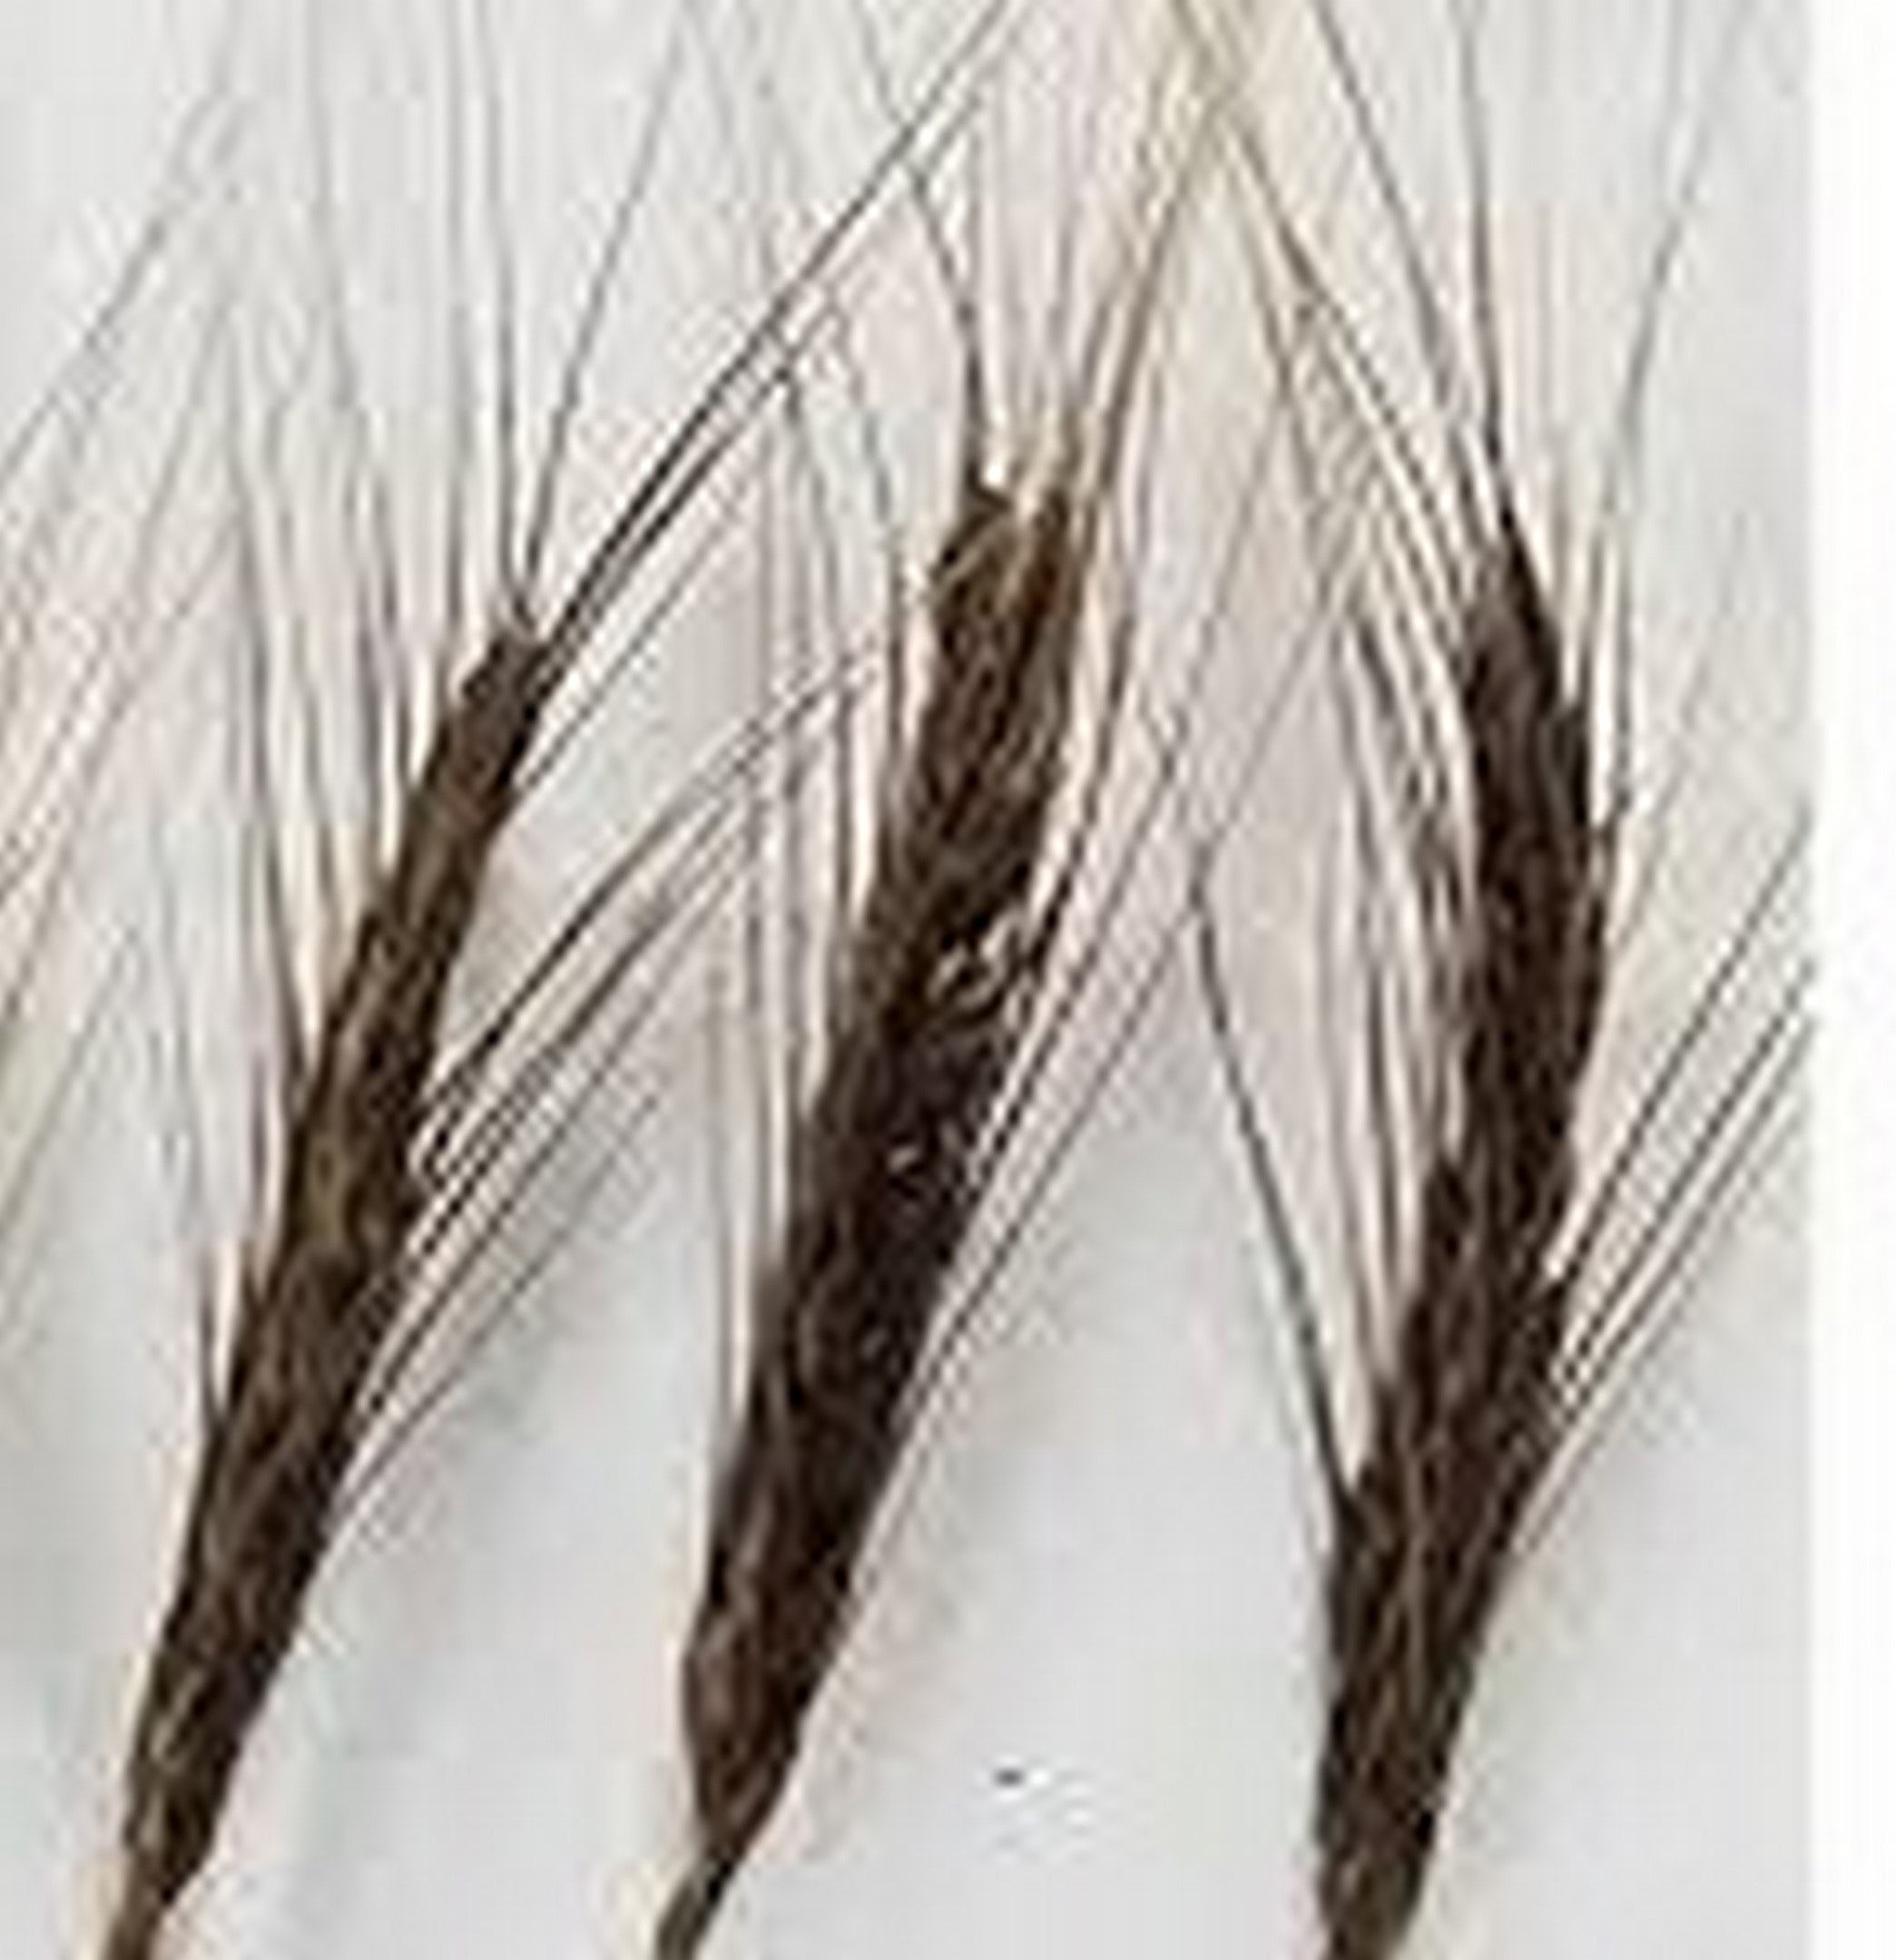Wheat Loose Smut: (39, 385, 1667, 1883)
